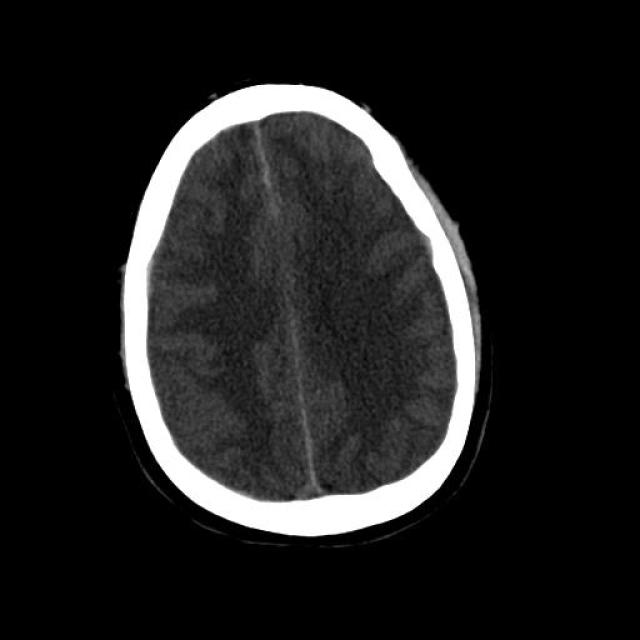Subdural: (109, 238, 168, 324)
